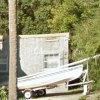Boat: (18, 64, 88, 97)
